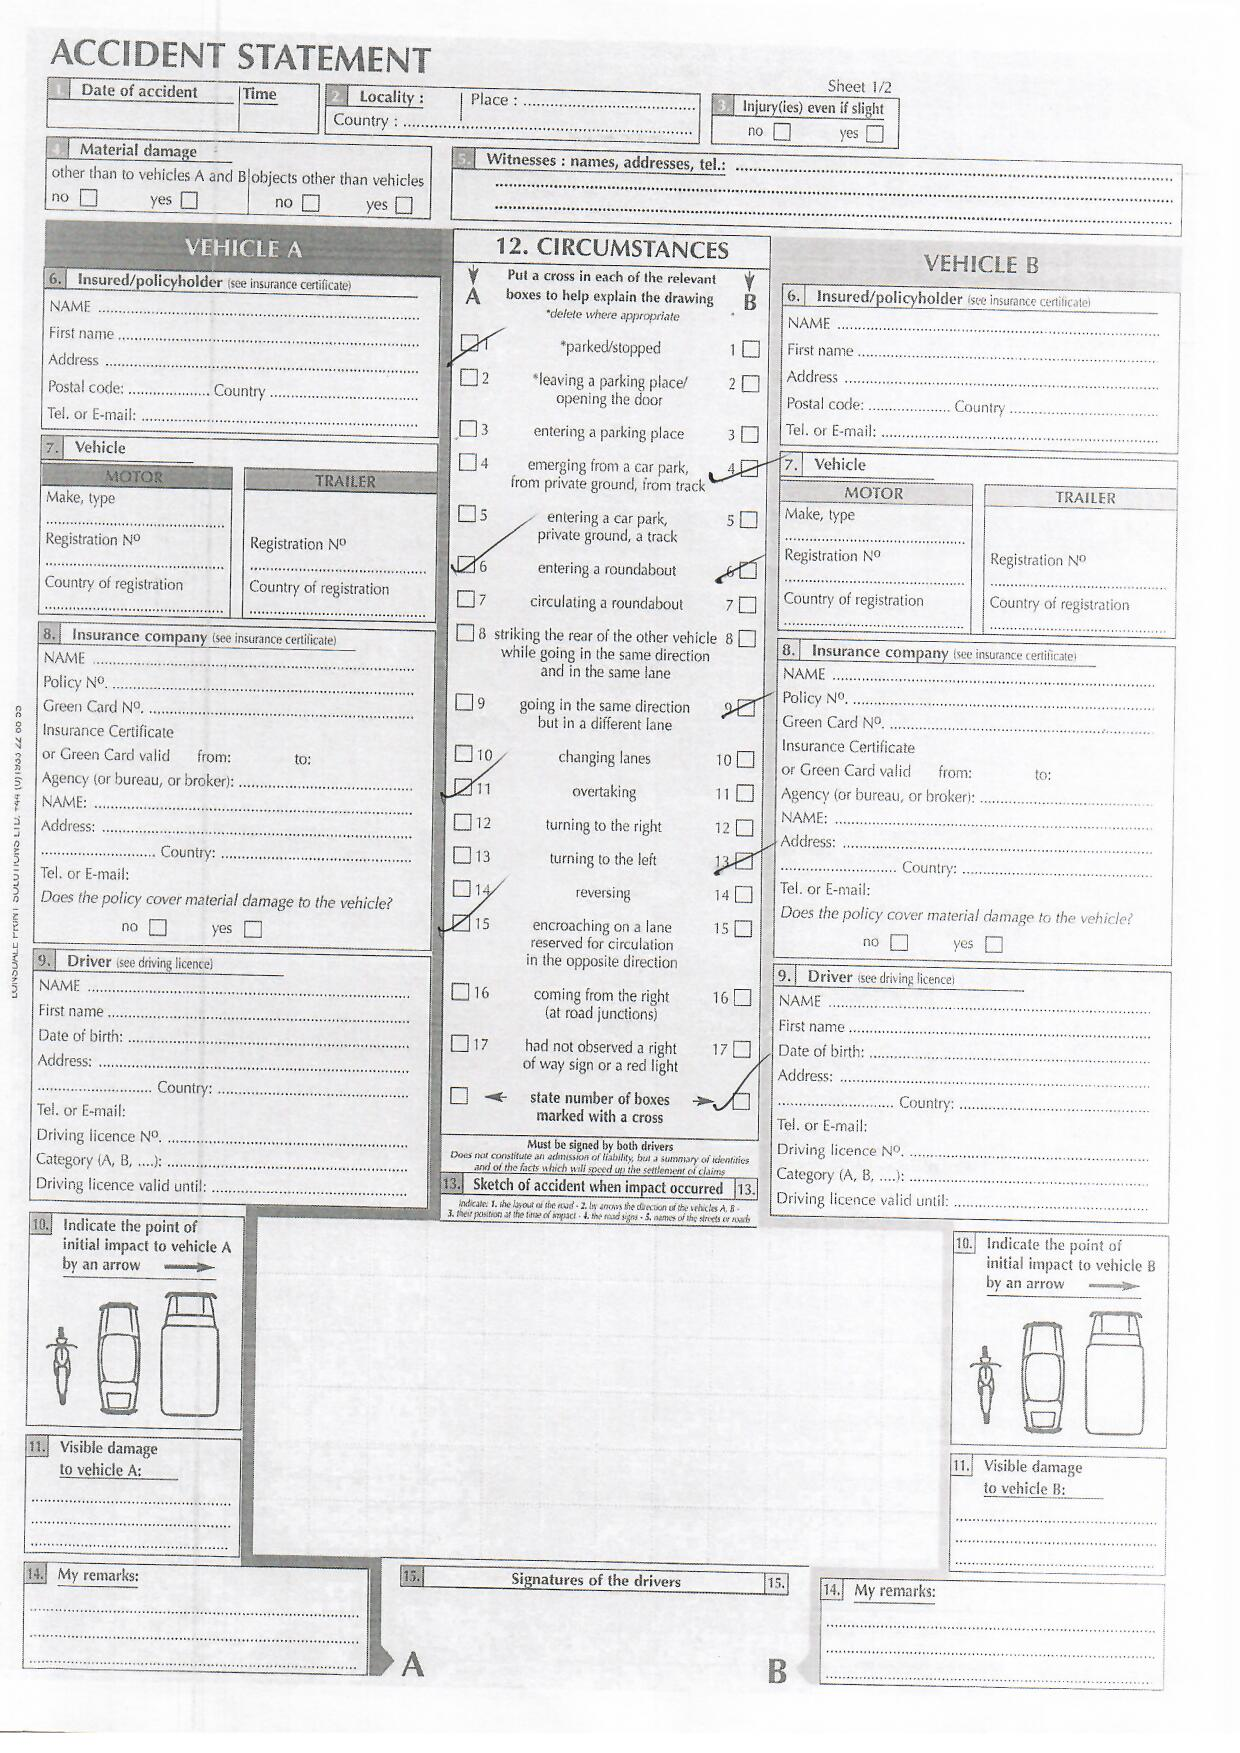a: (729, 694, 762, 725), (447, 772, 478, 803), (731, 557, 764, 587), (723, 1090, 756, 1115), (455, 330, 483, 357), (726, 850, 757, 872), (735, 456, 762, 482), (454, 552, 479, 579), (446, 911, 474, 936)
